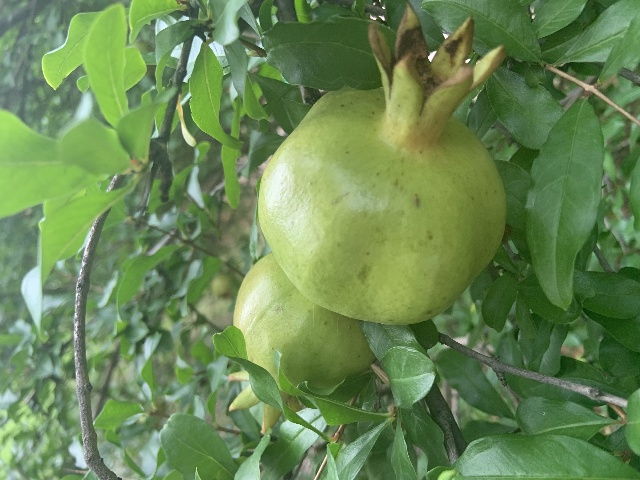mid-growth: (256, 0, 510, 325), (226, 252, 375, 432)
